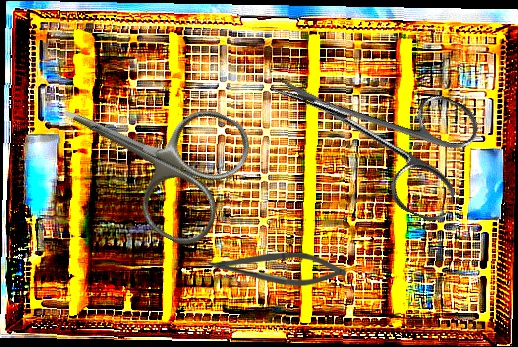Iris Scissors: (249, 31, 490, 227), (32, 49, 261, 255)
Micro Scissor: (206, 252, 347, 286)
